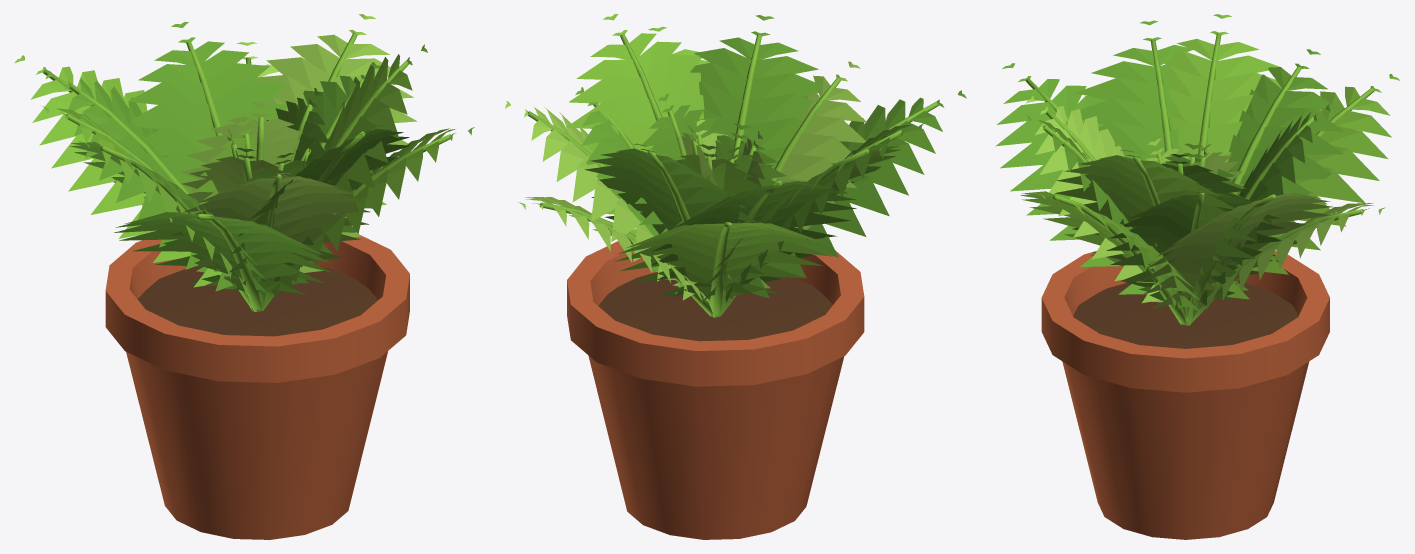
Rendered from plant.glb.
3 views of the same model, side by side, from view 1: azimuth 30°, elevation 25°; view 2: azimuth 150°, elevation 25°; view 3: azimuth 270°, elevation 25° (orthographic). The views are drawn at different scales.
Visible parts, largest first — view 1: model; view 2: model; view 3: model.
Boxes of the visible parts, <box> form: model: <box>14,14,474,539</box>; model: <box>505,14,966,539</box>; model: <box>995,14,1399,539</box>.
Size of the model in its own units: 0.4698 by 0.5465 by 0.4837.
